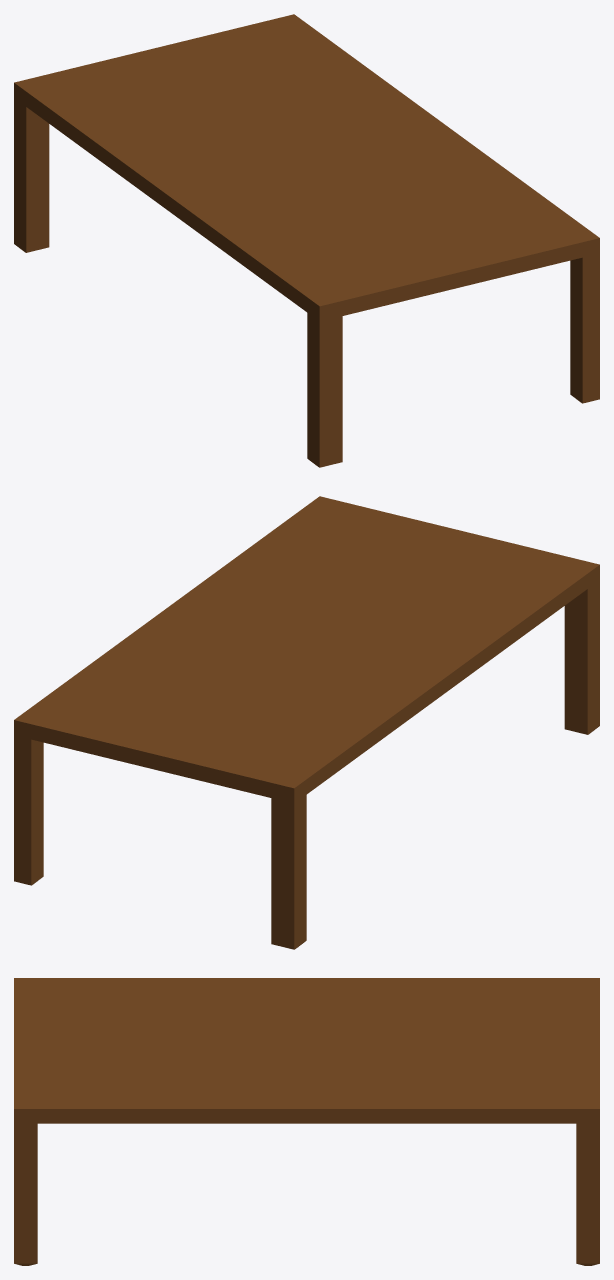
File: table.gltf
3 renders of one model, top to bottom at view 1: azimuth 30°, elevation 25°; view 2: azimuth 150°, elevation 25°; view 3: azimuth 270°, elevation 25°, orthographic. The views are drawn at different scales.
Parts seen in each view (by area): view 1: Plane; view 2: Plane; view 3: Plane.
Part boxes in pixels (<box>): Plane: <box>14,14,599,467</box>; Plane: <box>14,496,599,949</box>; Plane: <box>14,978,599,1265</box>.
Size of the model in its own units: 2.4 by 1.35 by 4.53.
